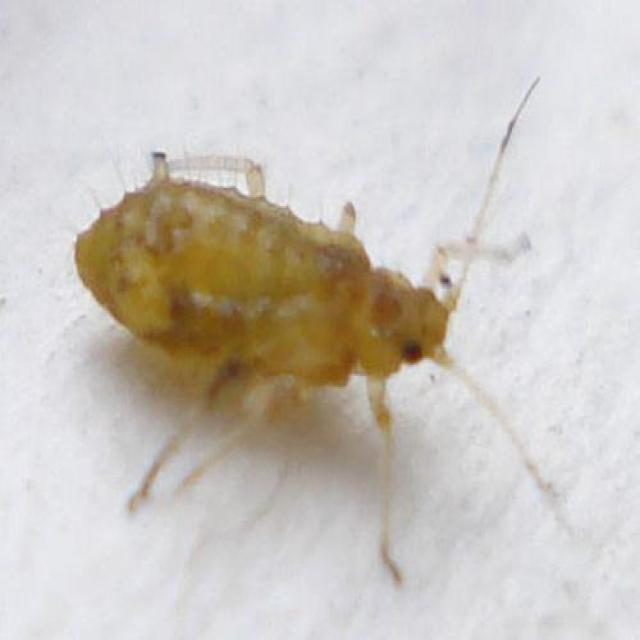Aphids: (62, 92, 556, 548)
